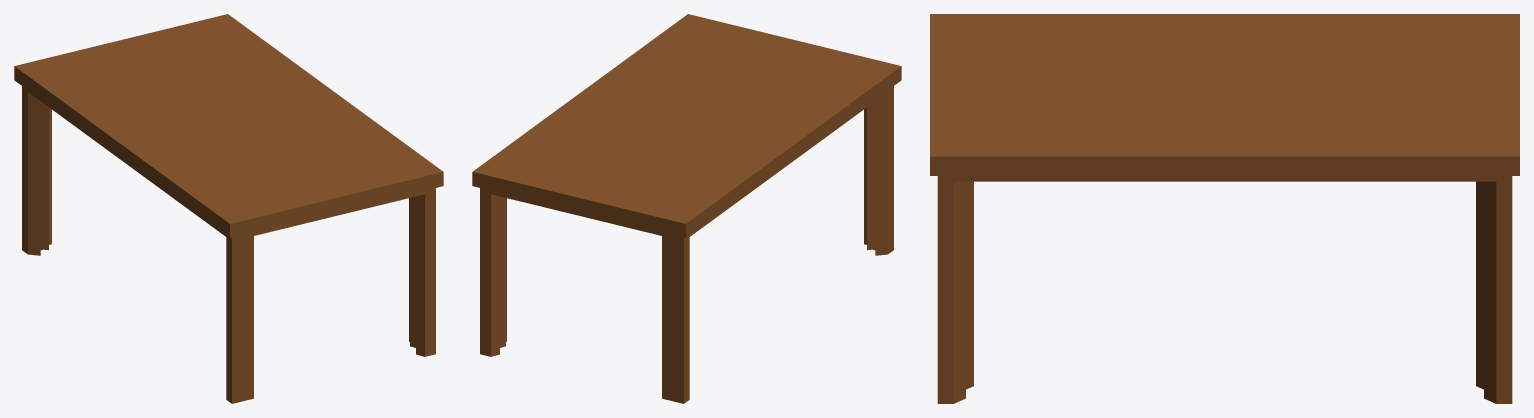
File: Table.fbx
3 views of the same model, side by side, from view 1: azimuth 30°, elevation 25°; view 2: azimuth 150°, elevation 25°; view 3: azimuth 270°, elevation 25° (orthographic). The views are drawn at different scales.
Visible parts, largest first — view 1: Table; view 2: Table; view 3: Table.
Boxes of the visible parts, left/top/right/bottom form: Table: left=14, top=14, right=443, bottom=403; Table: left=472, top=14, right=901, bottom=403; Table: left=930, top=14, right=1519, bottom=403.
Size of the model in its own units: 200 by 164 by 350.
